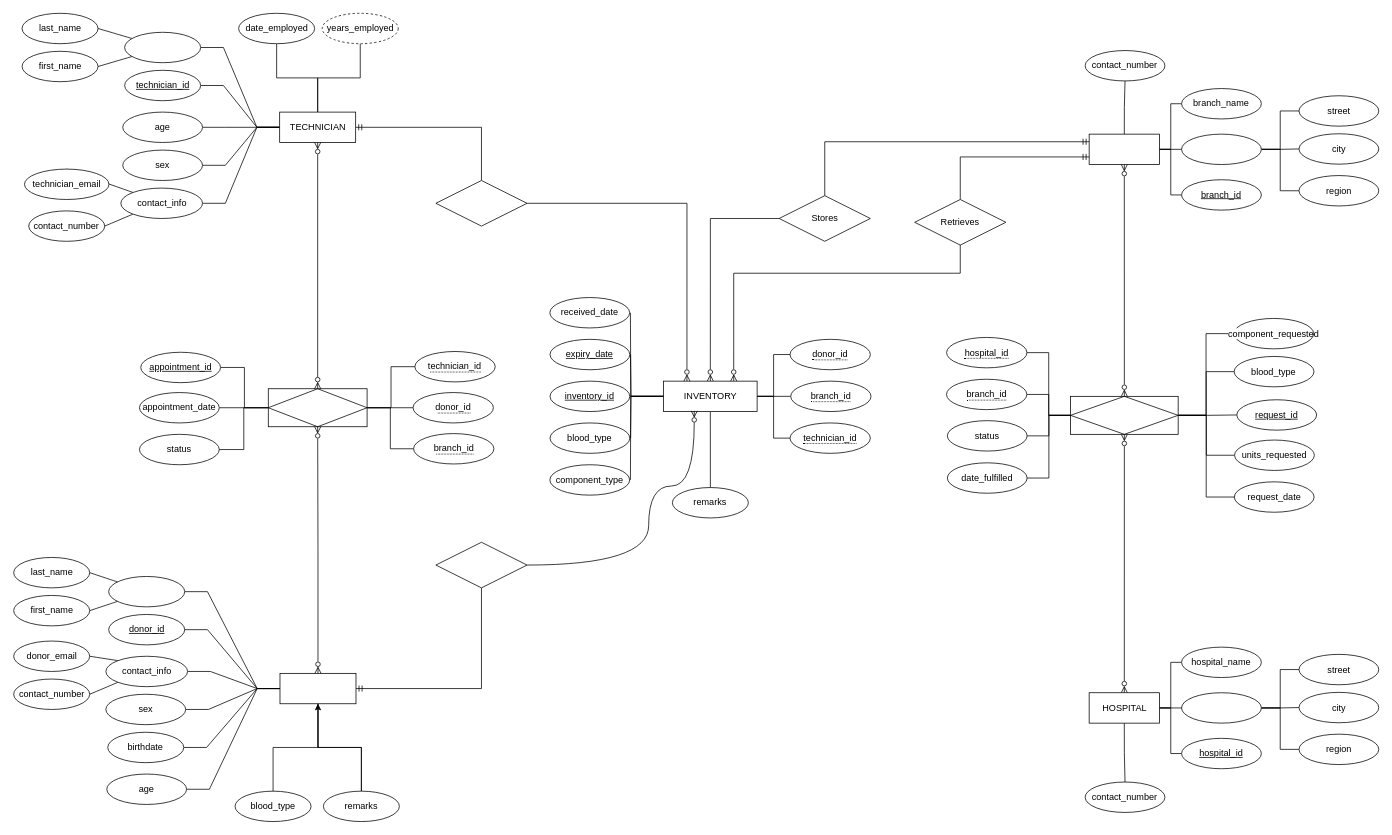
This 1392x835 diagram has some shape labels left out. Each missing label, with the centre of its shape:
"APPOINTMENT" goes at (317,407).
"BLOOD_BANK" goes at (1123,149).
"branch_address" goes at (1221,149).
"Donates Blood To" goes at (481,565).
"DONOR" goes at (317,688).
"donor_name" goes at (146,591).
"Extracts Blood To" goes at (481,203).
"hospital_address" goes at (1221,707).
"HOSPITAL_REQUEST" goes at (1124,415).
"technician_ name" goes at (162,47).
